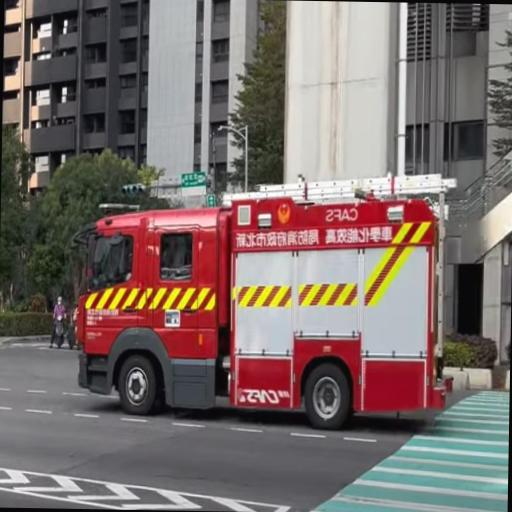fire truck: (74, 175, 453, 428)
